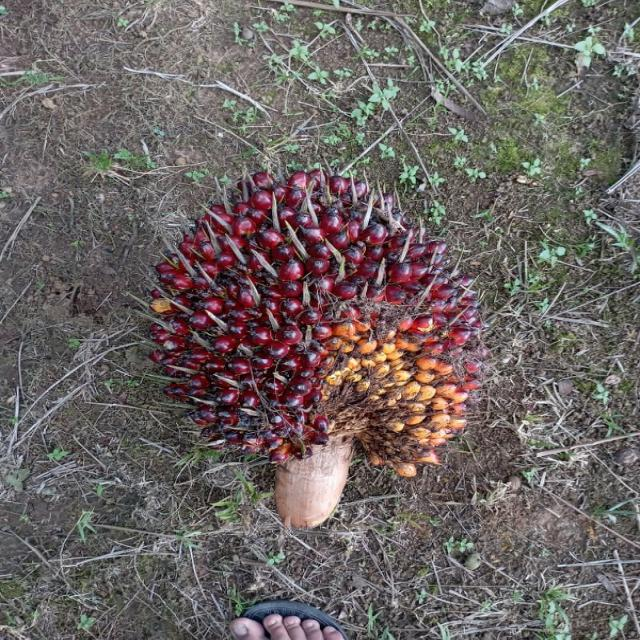fraksi 1: (124, 127, 527, 503)
